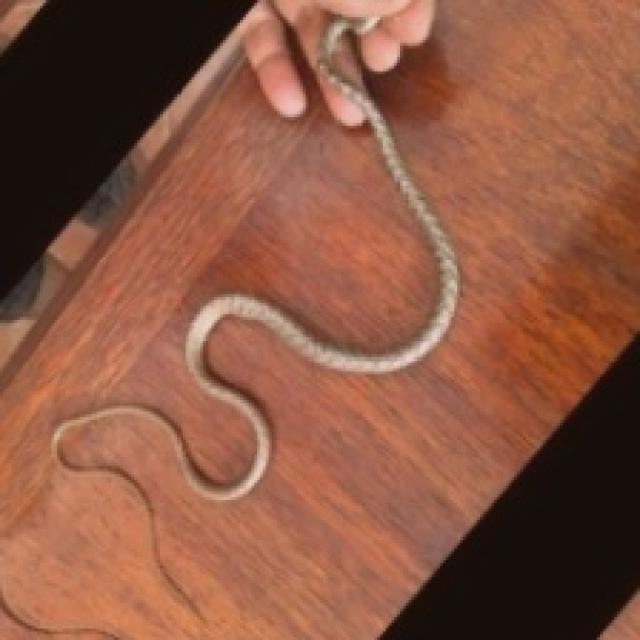philippine whip snake: (51, 0, 457, 523), (0, 0, 251, 369), (357, 40, 397, 71)
